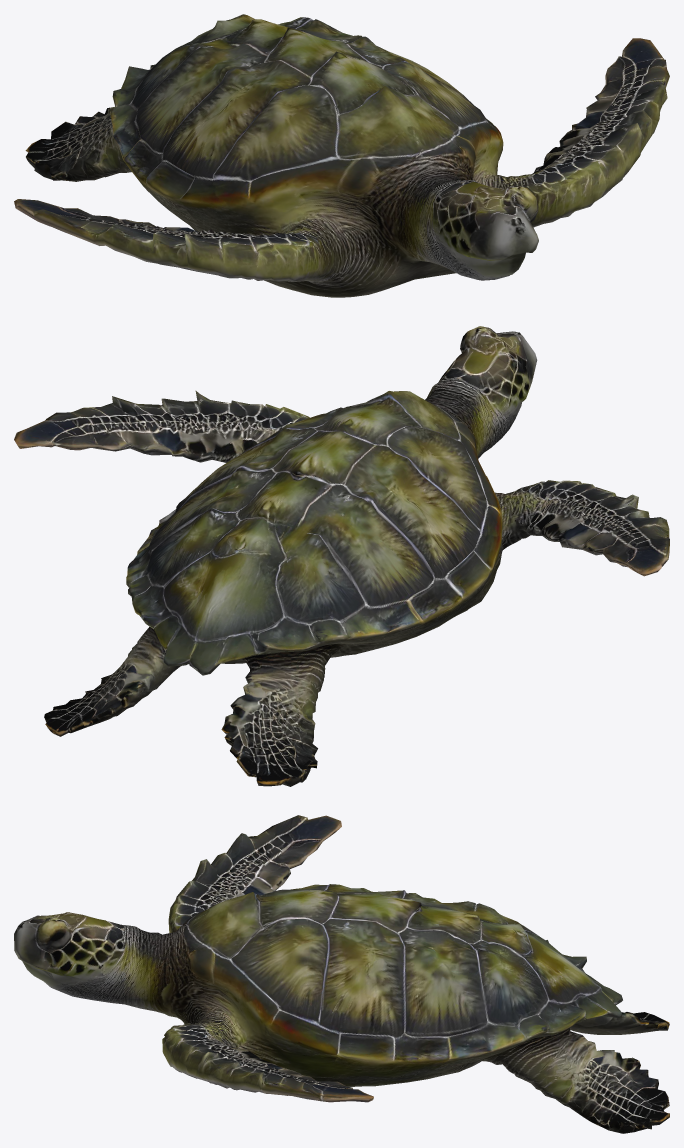
Rendered from turtle.glb.
3 renders of one model, top to bottom at view 1: azimuth 30°, elevation 25°; view 2: azimuth 150°, elevation 25°; view 3: azimuth 270°, elevation 25°, orthographic. The views are drawn at different scales.
Parts seen in each view (by area): view 1: tripo_node_36ff0305-b4f7-40d8-a43c-16a17fe142ee; view 2: tripo_node_36ff0305-b4f7-40d8-a43c-16a17fe142ee; view 3: tripo_node_36ff0305-b4f7-40d8-a43c-16a17fe142ee.
Boxes of the visible parts, x1,y1,x2,y2 form: tripo_node_36ff0305-b4f7-40d8-a43c-16a17fe142ee: [14, 14, 669, 297]; tripo_node_36ff0305-b4f7-40d8-a43c-16a17fe142ee: [14, 326, 669, 786]; tripo_node_36ff0305-b4f7-40d8-a43c-16a17fe142ee: [14, 815, 669, 1133].
Bounding box in the file's own units: 0.9963 × 0.3176 × 1.
1 material, 1 textured.
